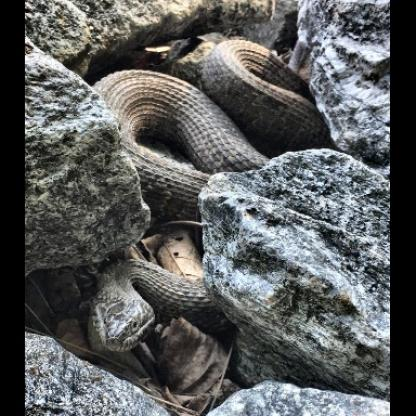Snake: (58, 44, 374, 390)
